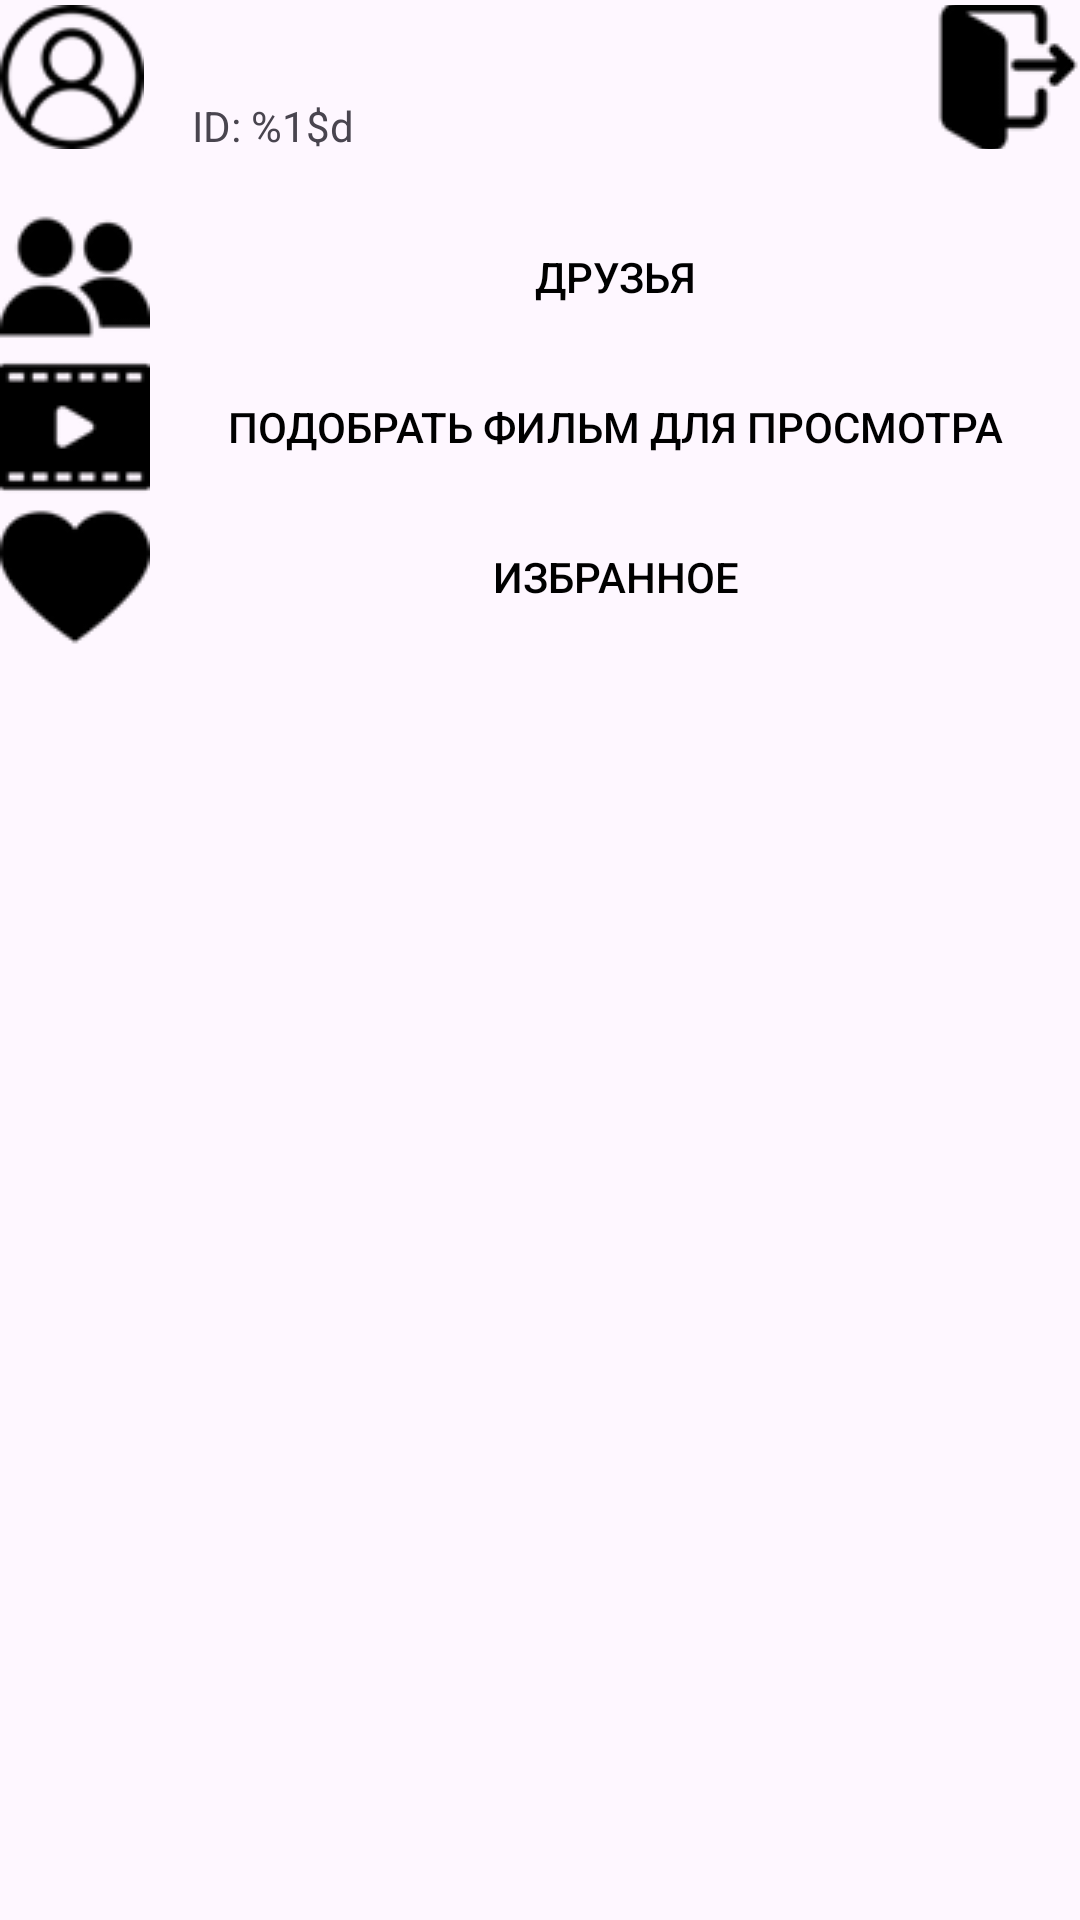

Icon bounding boxes for this 1080×1920 phone screenshot, format bbox=(x1, y1, x2, y2):
profile: bbox=(0, 5, 144, 149)
